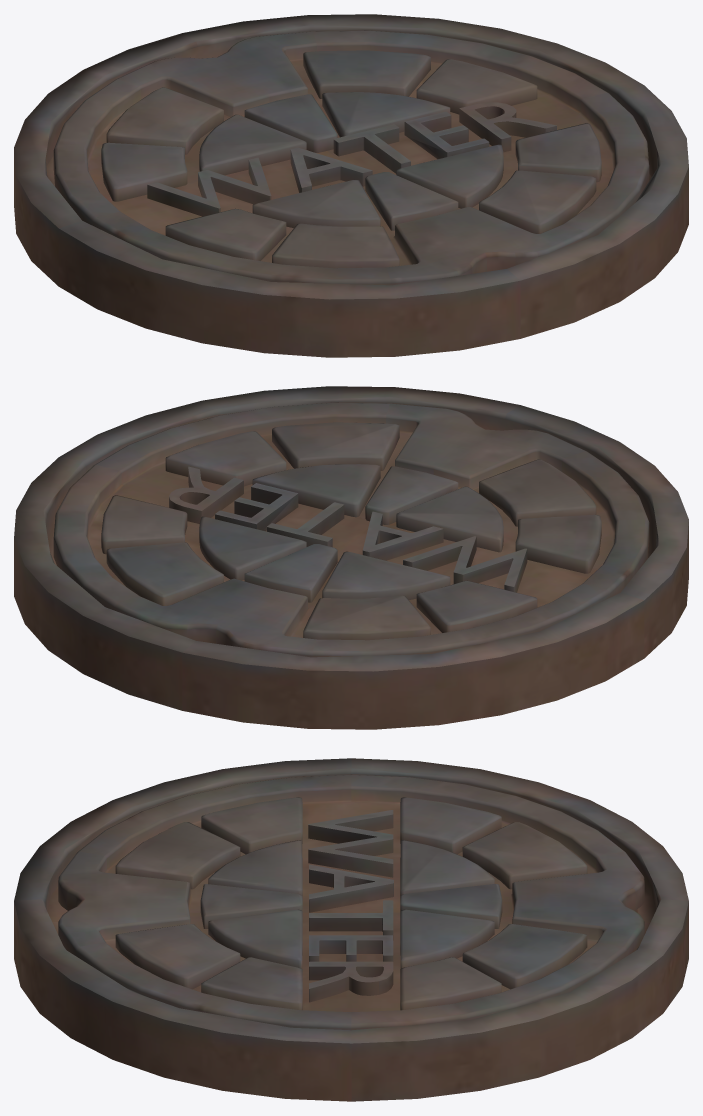
Rendered from tampa_bueiro.glb.
The picture shows the model from 3 angles, top to bottom: view 1: azimuth 30°, elevation 25°; view 2: azimuth 150°, elevation 25°; view 3: azimuth 270°, elevation 25°; orthographic projection.
Visible parts, largest first — view 1: water_manhole_cover, water_manhole_cover_frame; view 2: water_manhole_cover, water_manhole_cover_frame; view 3: water_manhole_cover, water_manhole_cover_frame.
Boxes of the visible parts, left/top/right/bottom form: water_manhole_cover: left=53, top=30, right=649, bottom=285; water_manhole_cover_frame: left=14, top=14, right=688, bottom=357; water_manhole_cover: left=53, top=402, right=649, bottom=657; water_manhole_cover_frame: left=14, top=386, right=688, bottom=729; water_manhole_cover: left=58, top=774, right=644, bottom=1030; water_manhole_cover_frame: left=14, top=758, right=688, bottom=1101.
Size of the model in its own units: 0.6908 by 0.0676 by 0.6908.
1 material, 1 textured.
